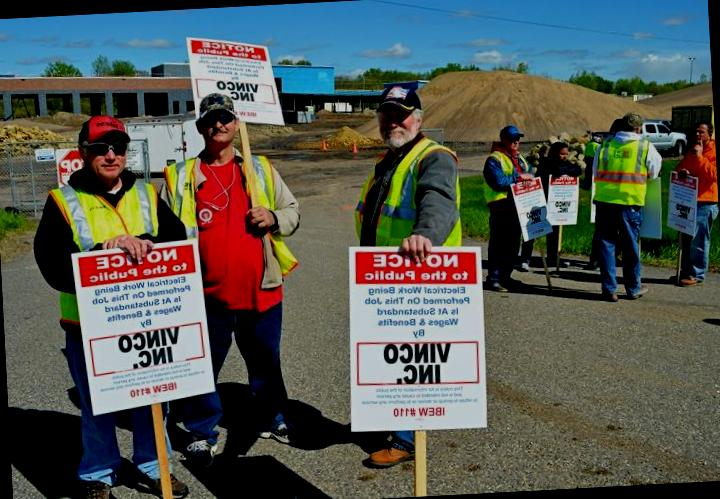person: (28, 109, 184, 499), (160, 88, 312, 456), (342, 82, 458, 250), (587, 109, 660, 300), (468, 118, 536, 295), (656, 114, 720, 290)
